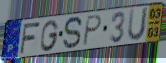3: (110, 10, 127, 45)
F: (19, 21, 42, 56)
G: (40, 19, 60, 53)
P: (81, 14, 104, 48)
S: (62, 15, 84, 51)
U: (126, 6, 150, 43)
